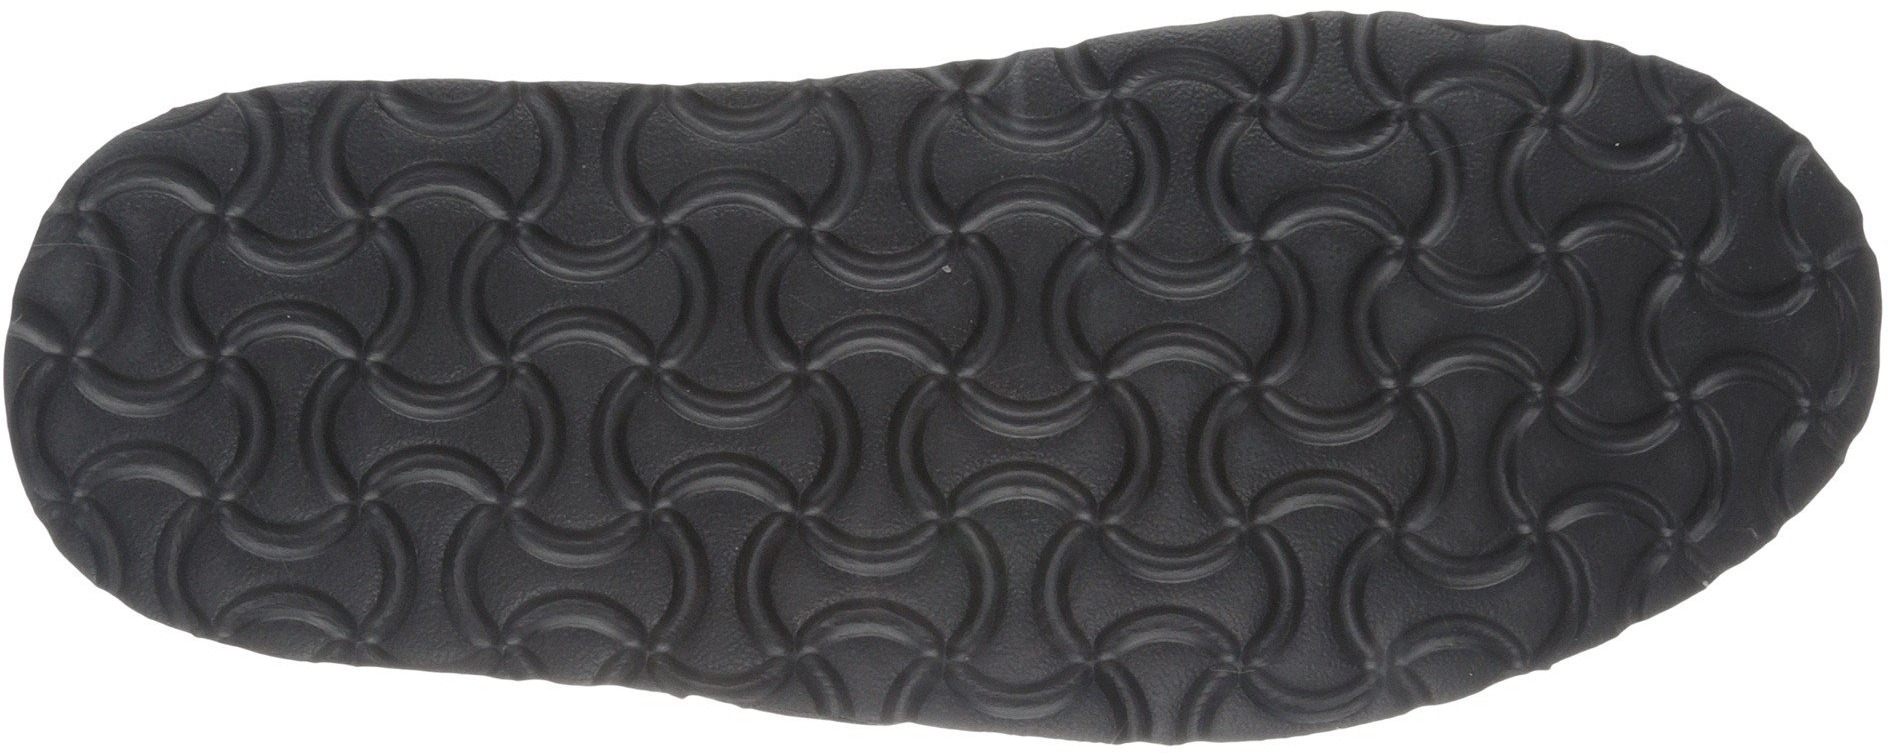bowtie: (82, 157, 393, 451), (399, 119, 680, 400), (918, 80, 1172, 341), (406, 413, 641, 665), (686, 298, 914, 536), (1633, 181, 1857, 417), (1175, 40, 1414, 259), (1198, 273, 1411, 516), (1417, 52, 1626, 293), (1427, 314, 1629, 528), (682, 95, 909, 281), (1107, 533, 1311, 718), (897, 546, 1096, 720), (933, 346, 1113, 525), (153, 461, 324, 634), (716, 554, 869, 695), (1341, 535, 1491, 677), (1646, 426, 1763, 535)
